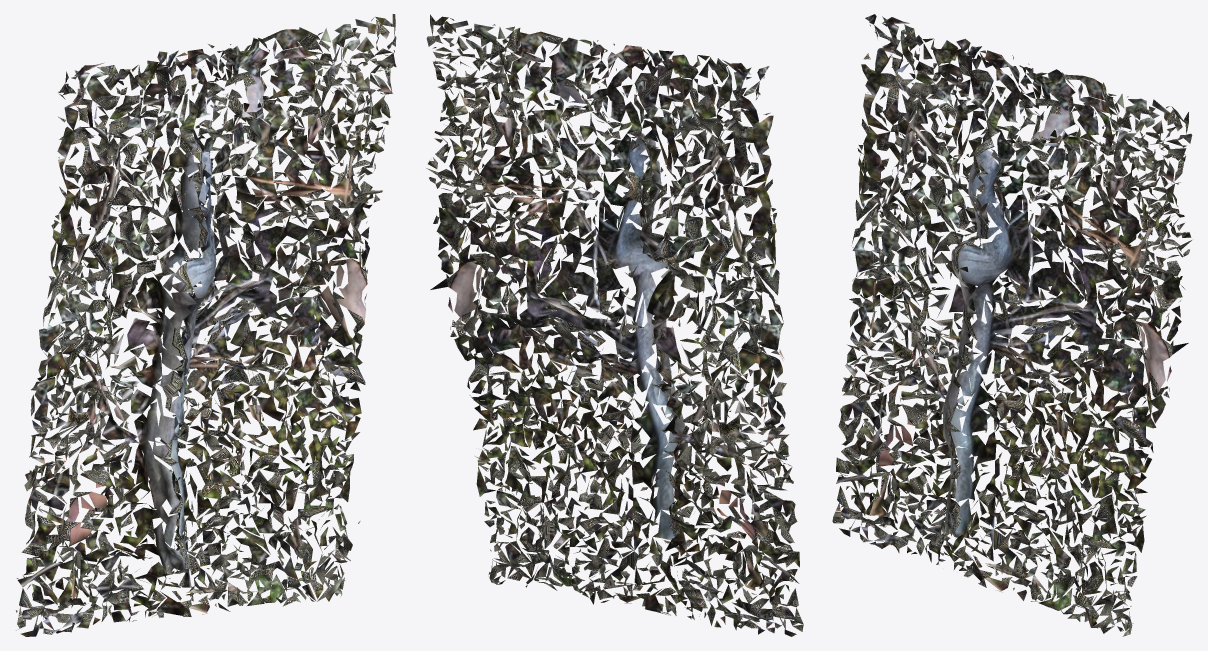
3 views of the same model, side by side, from view 1: azimuth 30°, elevation 25°; view 2: azimuth 150°, elevation 25°; view 3: azimuth 330°, elevation 25° (orthographic). The views are drawn at different scales.
Parts seen in each view (by area): view 1: Object_2, Object_3, Object_4, Object_5, Object_6; view 2: Object_2, Object_3, Object_4, Object_5, Object_6; view 3: Object_2, Object_3, Object_4, Object_5, Object_6.
Boxes of the visible parts, x1=… form: Object_2: x1=17, y1=20, x2=392, y2=629; Object_3: x1=21, y1=19, x2=392, y2=636; Object_4: x1=16, y1=14, x2=395, y2=634; Object_5: x1=23, y1=28, x2=396, y2=632; Object_6: x1=16, y1=43, x2=394, y2=616; Object_2: x1=434, y1=21, x2=799, y2=627; Object_3: x1=426, y1=20, x2=796, y2=636; Object_4: x1=428, y1=14, x2=803, y2=633; Object_5: x1=426, y1=24, x2=797, y2=628; Object_6: x1=432, y1=42, x2=795, y2=620; Object_2: x1=836, y1=17, x2=1184, y2=633; Object_3: x1=839, y1=14, x2=1191, y2=631; Object_4: x1=832, y1=16, x2=1191, y2=636; Object_5: x1=839, y1=23, x2=1192, y2=634; Object_6: x1=839, y1=32, x2=1186, y2=627.
Bounding box in the file's own units: 11.83 × 17.49 × 2.32.
1 material, 1 textured.
